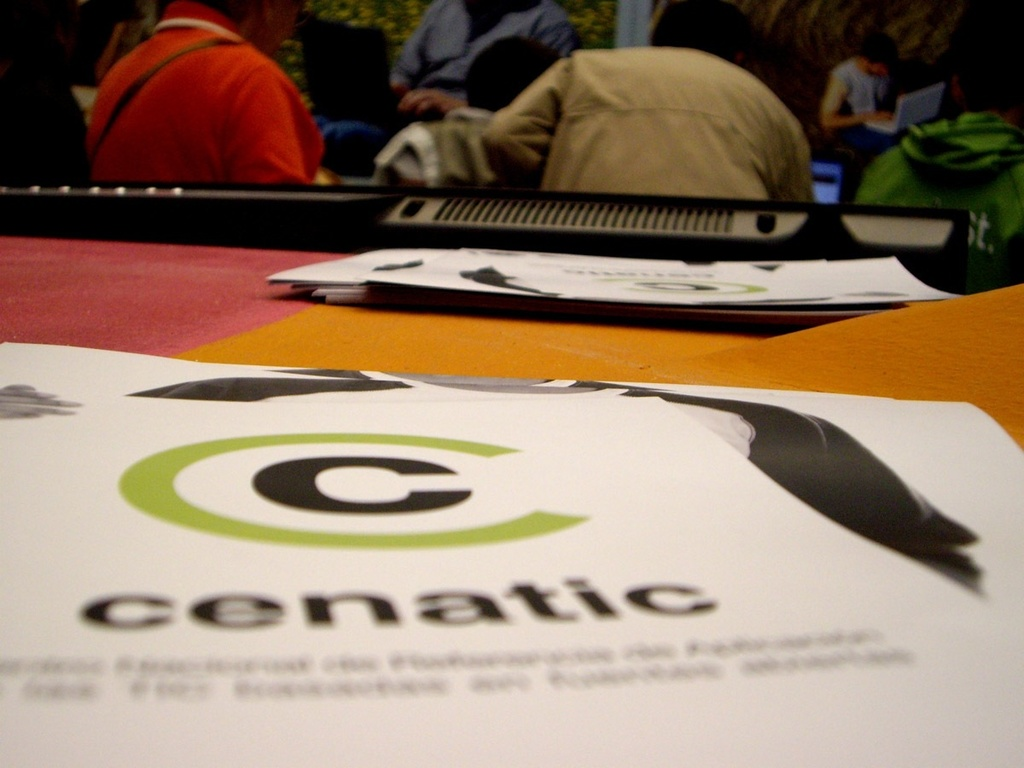Human_hand: (402, 90, 465, 115), (858, 111, 893, 120)
